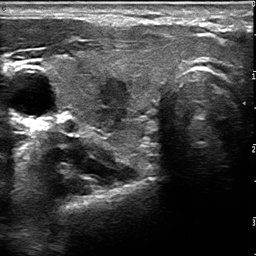mass: (99, 79, 129, 129)
